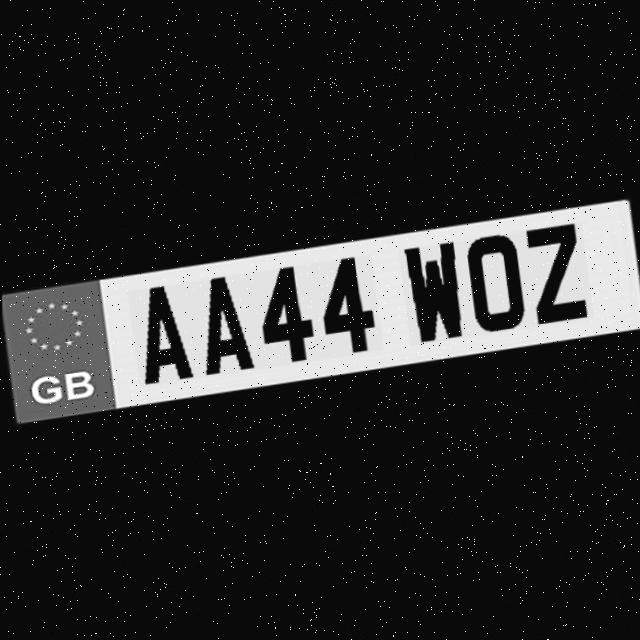license-plates: (2, 198, 640, 422)
